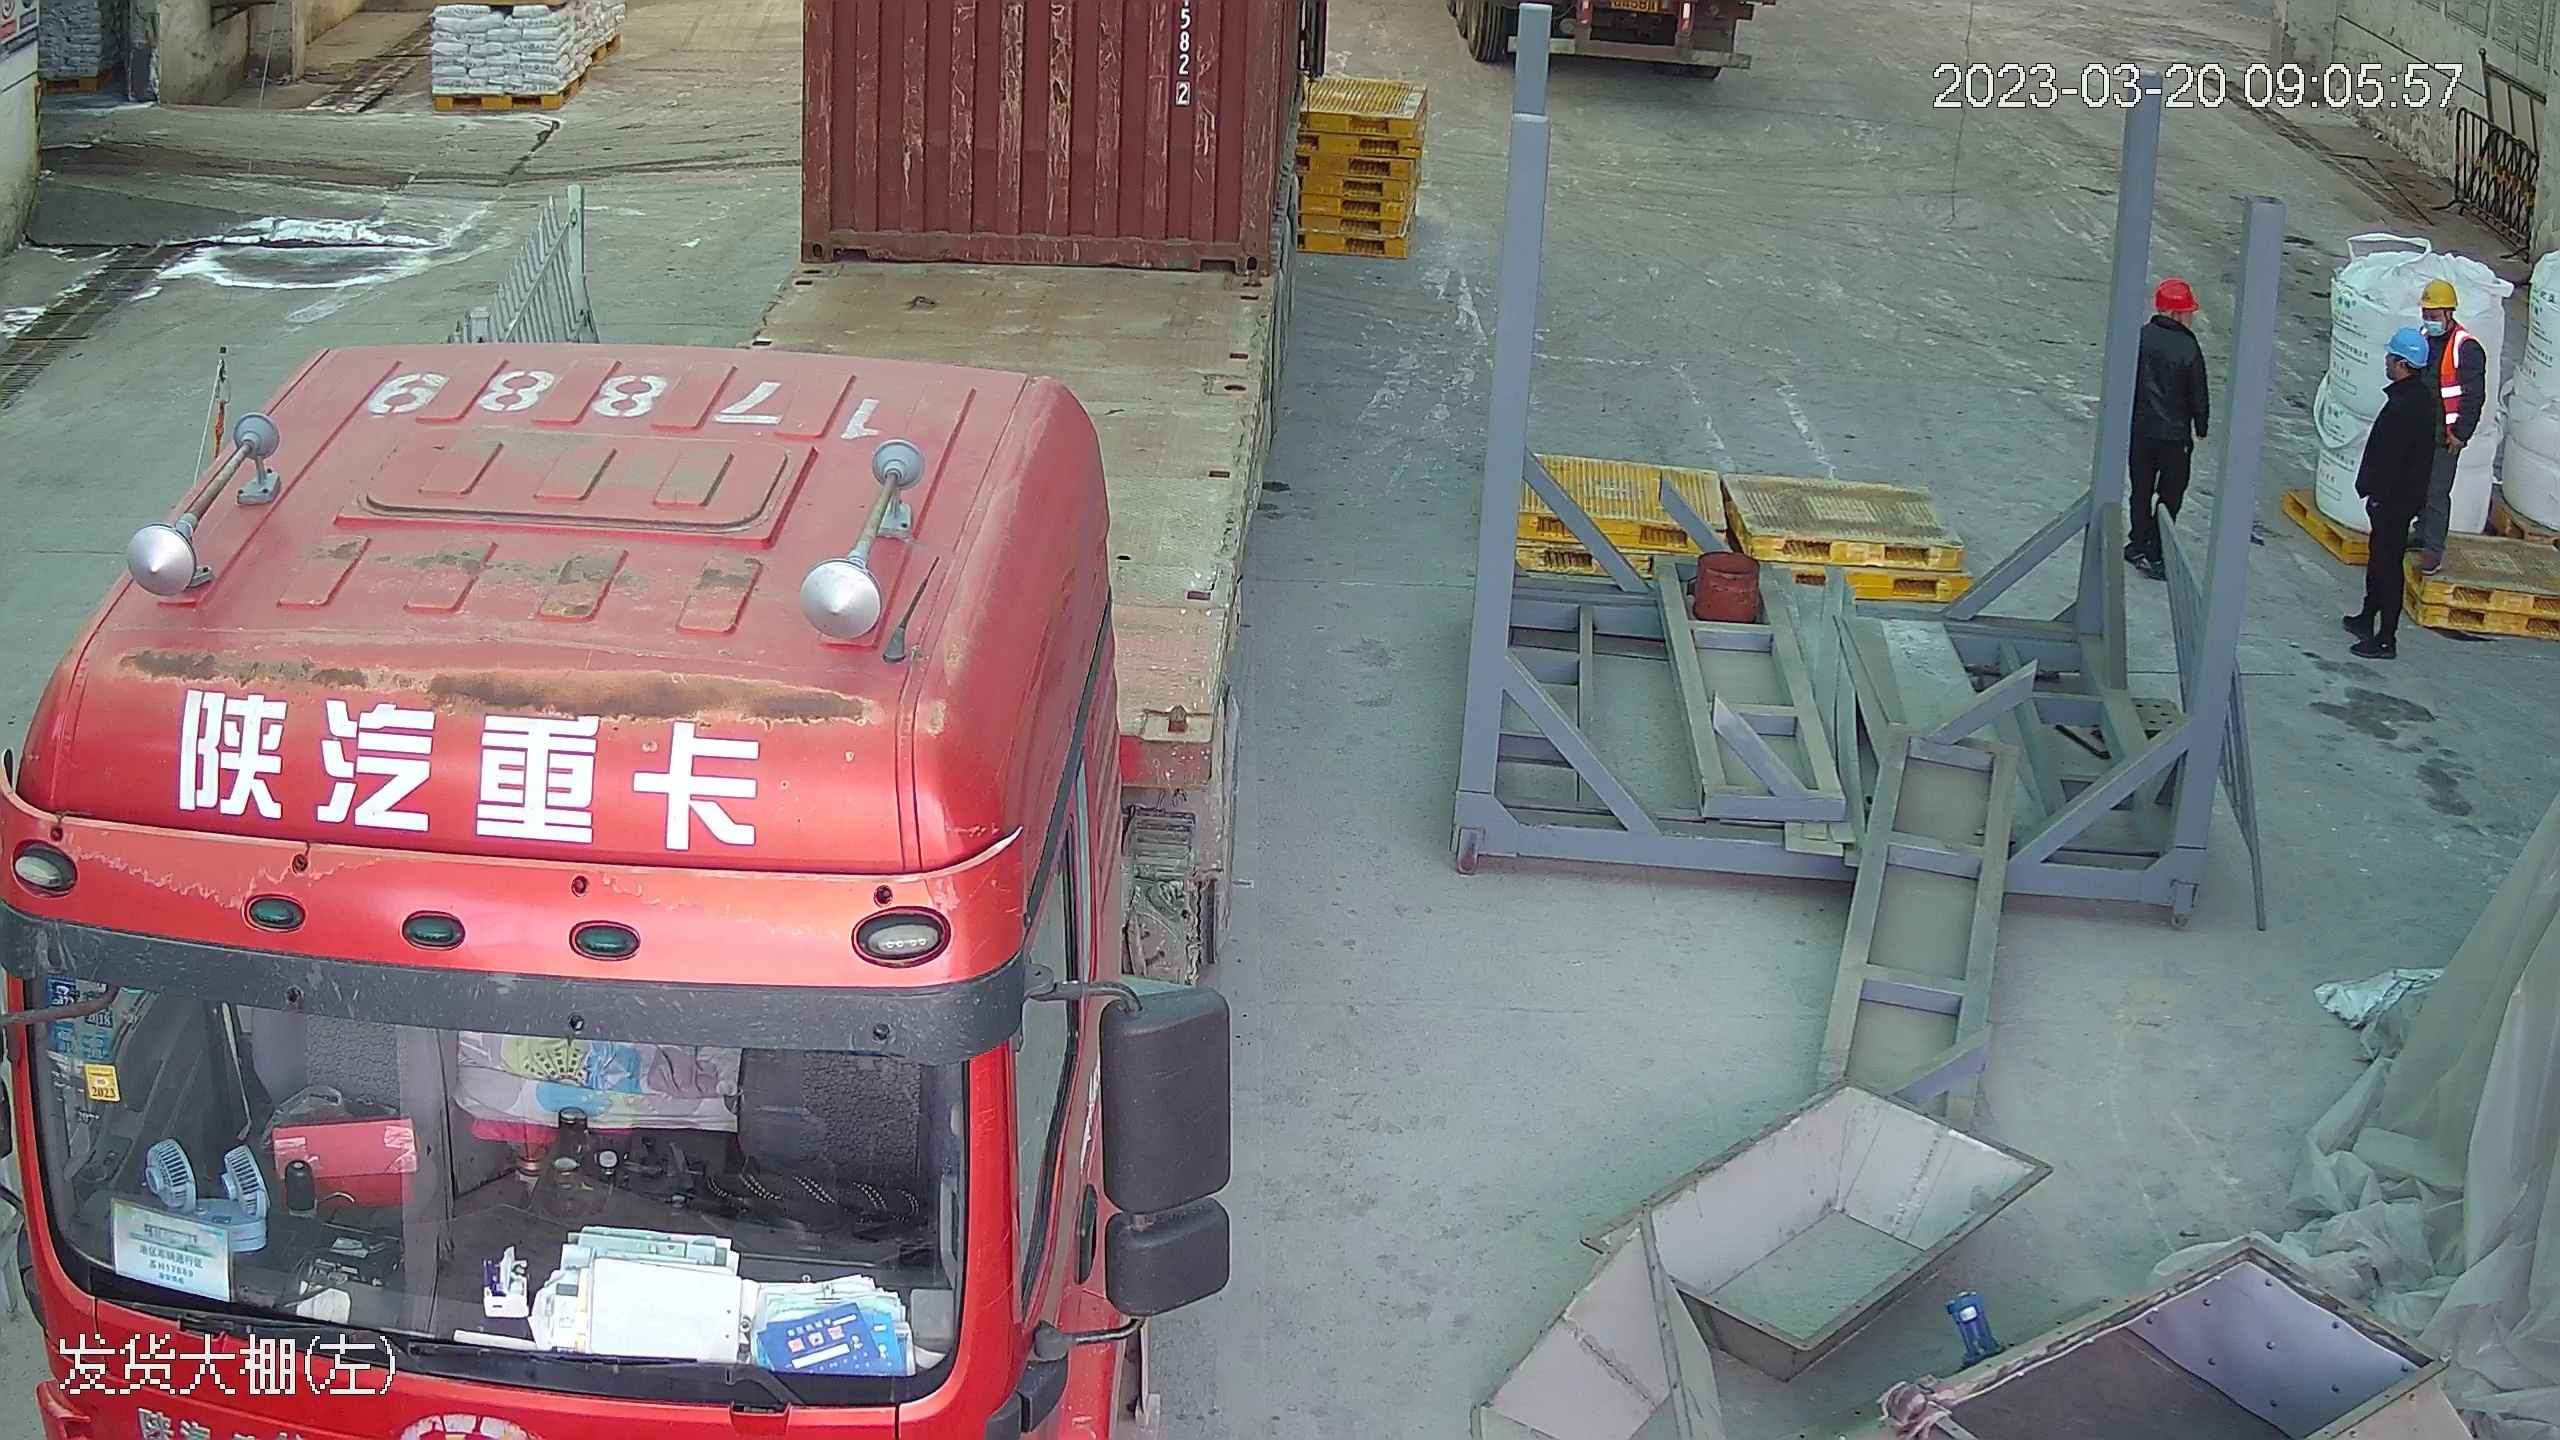head: (2370, 314, 2460, 430), (2390, 276, 2480, 384), (2137, 274, 2205, 373)
helmet: (2150, 273, 2198, 311), (2384, 328, 2432, 368), (2418, 275, 2461, 311)
people: (2340, 294, 2462, 658), (2125, 272, 2211, 574)
truck: (9, 1, 1291, 1440)
